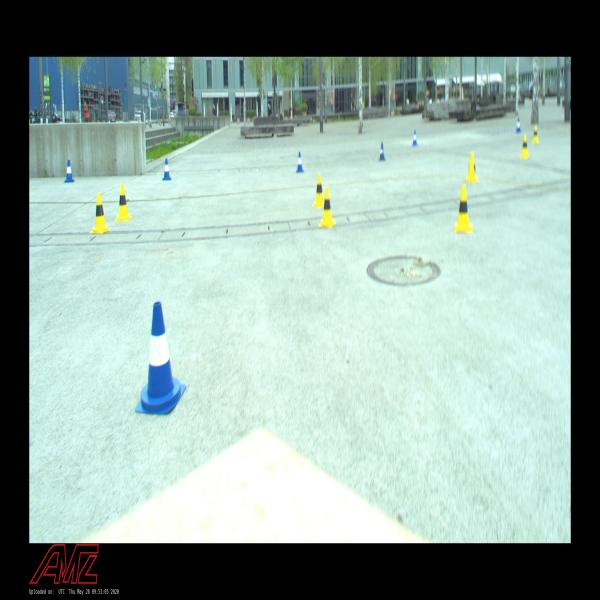blue_cone: (135, 301, 186, 412), (63, 159, 75, 183), (162, 158, 171, 181), (295, 151, 304, 173), (378, 141, 386, 161), (411, 128, 418, 146), (516, 117, 521, 133)
yellow_cone: (453, 184, 473, 234), (90, 193, 109, 234), (318, 187, 336, 228), (114, 183, 132, 221), (312, 173, 326, 208), (465, 152, 479, 183), (520, 133, 530, 159), (532, 124, 539, 145)
